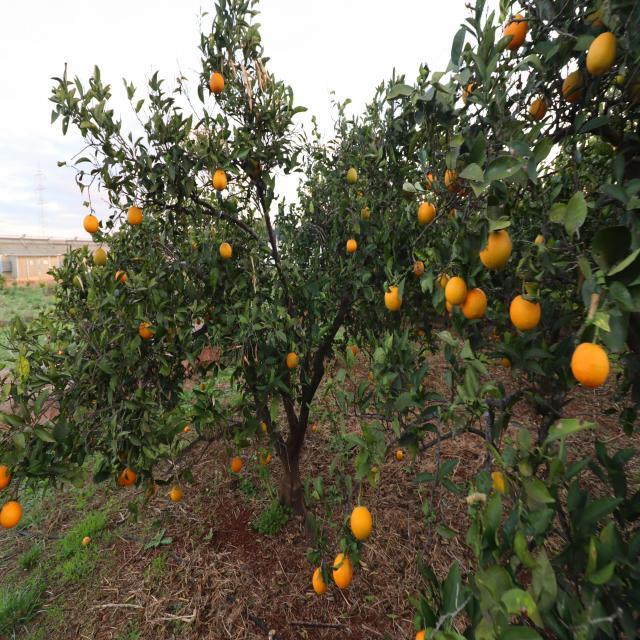Jeruk Belum Matang: (347, 168, 358, 183)
Jeruk Sudah Matang: (572, 345, 612, 386), (586, 31, 622, 75), (508, 295, 542, 330), (481, 233, 512, 270), (462, 288, 489, 318), (349, 510, 374, 540), (561, 74, 585, 104), (443, 275, 467, 303), (490, 464, 510, 496), (0, 500, 23, 527), (504, 19, 526, 46), (442, 168, 463, 193), (336, 562, 354, 591), (418, 202, 437, 224), (313, 572, 330, 596), (386, 286, 402, 310), (530, 98, 548, 119), (210, 70, 227, 92), (128, 207, 146, 225), (120, 468, 138, 485), (92, 246, 109, 264), (214, 170, 228, 189), (84, 216, 100, 232), (0, 466, 11, 488), (349, 342, 362, 359), (464, 84, 474, 105), (140, 324, 153, 340), (219, 244, 233, 258), (286, 352, 298, 368), (170, 486, 183, 500), (348, 238, 360, 252), (117, 270, 130, 282), (231, 458, 243, 470), (260, 450, 270, 464), (360, 208, 370, 219), (258, 422, 266, 435)
